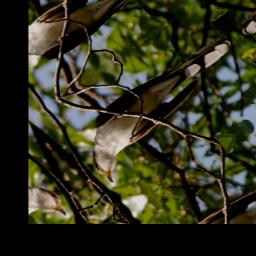Cuckoo: (66, 25, 256, 187)
